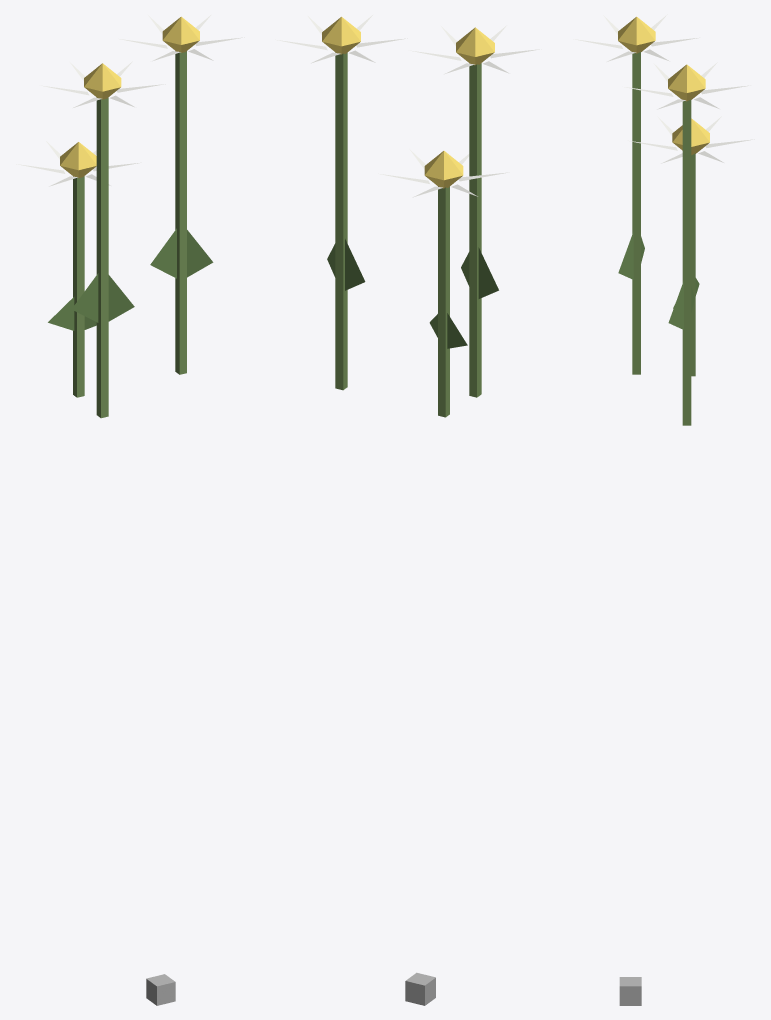
File: rv_flower_white.gltf
3 renders of one model, left to right at view 1: azimuth 30°, elevation 25°; view 2: azimuth 150°, elevation 25°; view 3: azimuth 270°, elevation 25°, orthographic. The views are drawn at different scales.
Parts seen in each view (by area): view 1: RV_FlowerWhite; view 2: RV_FlowerWhite; view 3: RV_FlowerWhite.
Part boxes in pixels (bbox=[...]): RV_FlowerWhite: bbox=[16, 15, 244, 1005]; RV_FlowerWhite: bbox=[275, 15, 541, 1005]; RV_FlowerWhite: bbox=[573, 14, 754, 1005].
Bounding box in the file's own units: 0.2163 × 0.9748 × 0.1701.
